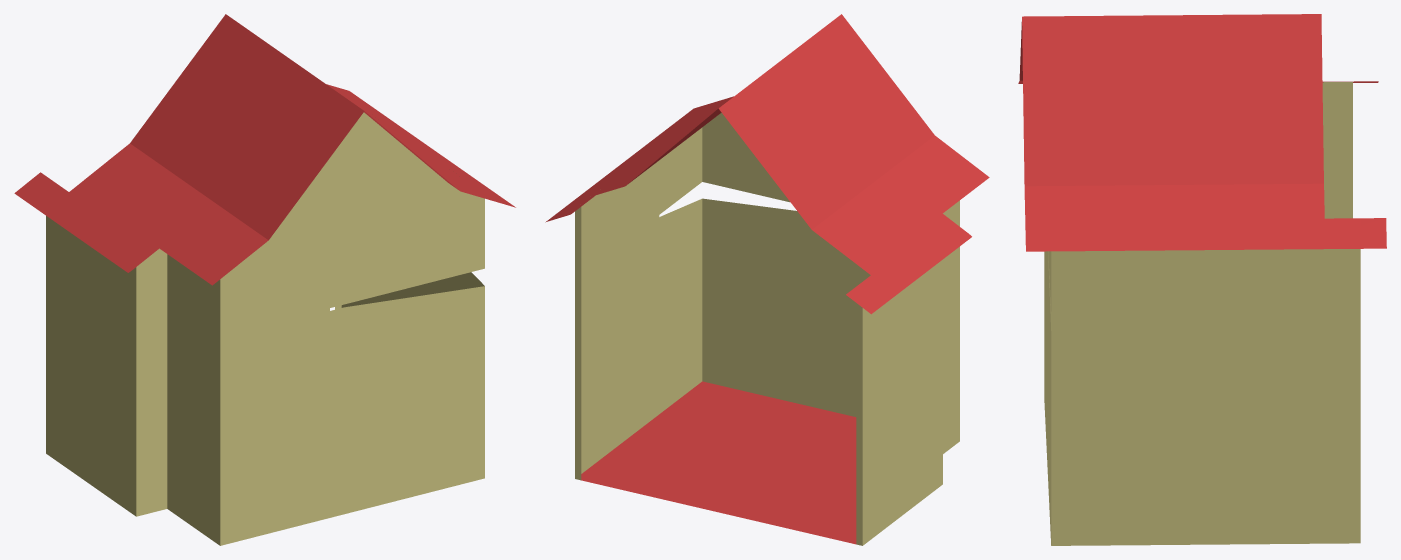
The picture shows the model from 3 angles, left to right: view 1: azimuth 30°, elevation 25°; view 2: azimuth 150°, elevation 25°; view 3: azimuth 270°, elevation 25°; orthographic projection. The views are drawn at different scales.
Bounding box in the file's own units: 12.94 × 10.75 × 14.69.
